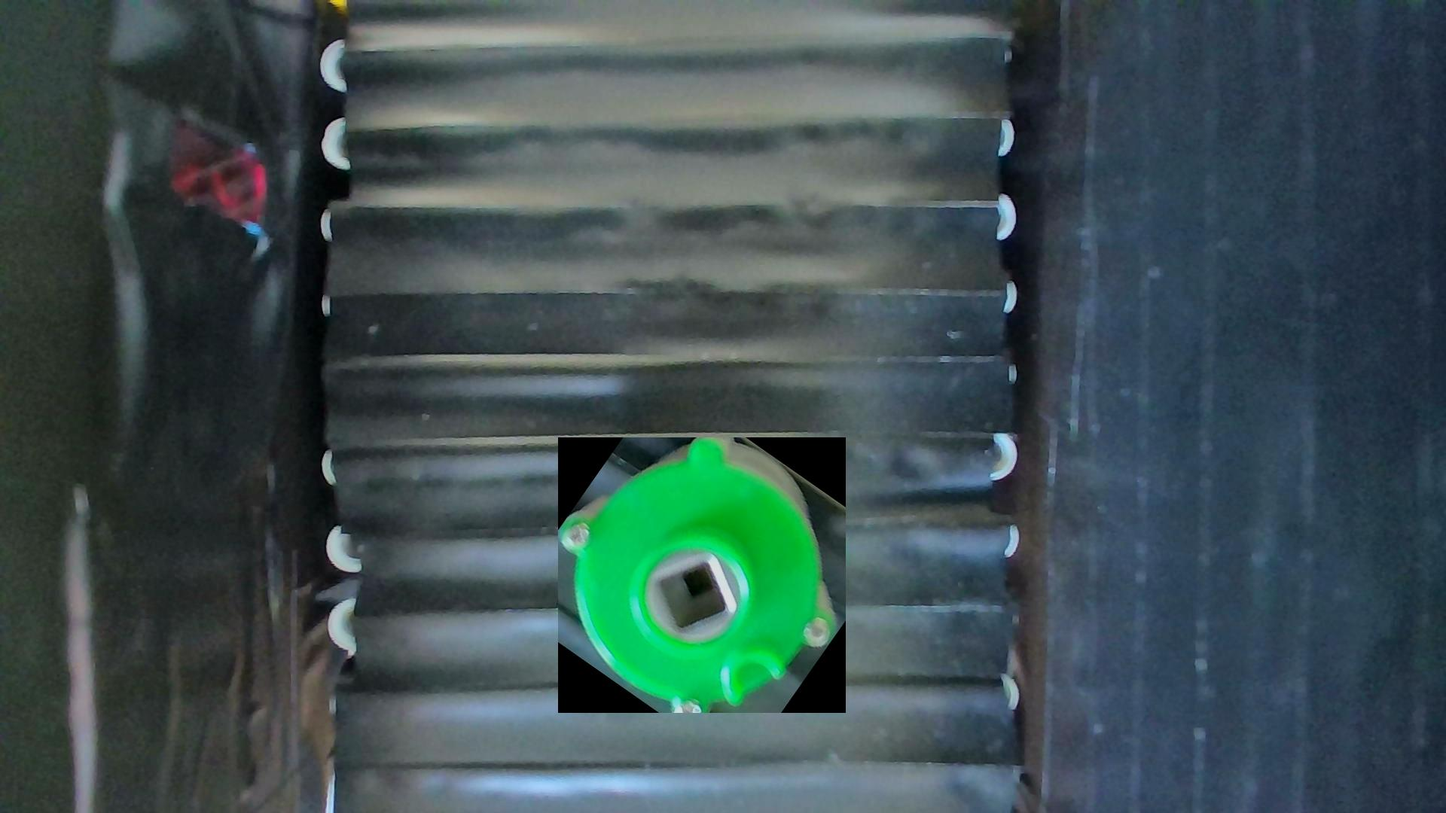cartridge: (558, 438, 846, 713)
